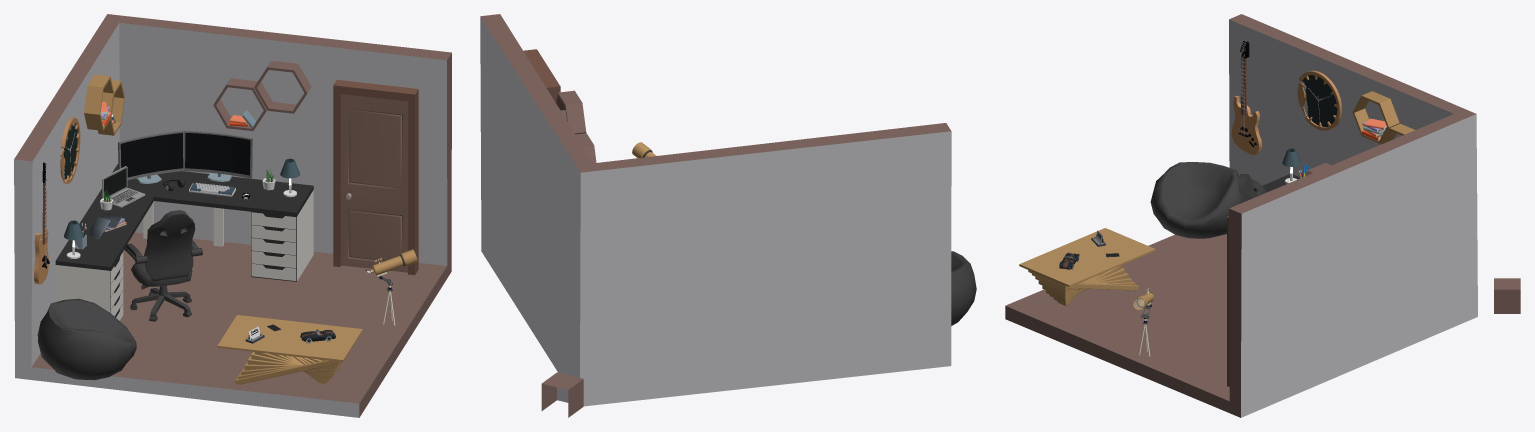
The picture shows the model from 3 angles, left to right: view 1: azimuth 30°, elevation 25°; view 2: azimuth 150°, elevation 25°; view 3: azimuth 270°, elevation 25°; orthographic projection. The views are drawn at different scales.
Visible parts, largest first — view 1: Body, Door, Table main, Screens, Table, Cushion Bag, Office Chair, Shelves, Books, Clock, Guitar, Telescope (+2 smaller); view 2: Body, Cushion Bag, Cube, Shelves, Door; view 3: Body, Cushion Bag, Table, Clock, Guitar, Shelves, Cube, Telescope, Office Chair.
Boxes of the visible parts, <box> form: Body: <box>14,14,451,417</box>; Door: <box>333,79,418,275</box>; Table main: <box>55,164,313,320</box>; Screens: <box>102,130,252,207</box>; Table: <box>217,315,362,384</box>; Cushion Bag: <box>37,298,136,380</box>; Office Chair: <box>124,210,202,321</box>; Shelves: <box>84,61,311,135</box>; Books: <box>87,102,256,238</box>; Clock: <box>60,117,80,183</box>; Guitar: <box>34,162,49,284</box>; Telescope: <box>365,249,417,325</box>; Body: <box>480,14,951,406</box>; Cushion Bag: <box>951,251,976,325</box>; Cube: <box>541,372,583,417</box>; Shelves: <box>555,90,596,163</box>; Door: <box>523,49,560,101</box>; Body: <box>1005,14,1477,417</box>; Cushion Bag: <box>1150,162,1245,238</box>; Table: <box>1019,228,1155,306</box>; Clock: <box>1297,70,1341,130</box>; Guitar: <box>1231,41,1262,154</box>; Shelves: <box>1305,91,1414,176</box>; Cube: <box>1494,278,1520,313</box>; Telescope: <box>1132,288,1153,356</box>; Office Chair: <box>1238,173,1265,200</box>.
Bounding box in the file's own units: 4.78 × 2.29 × 5.21.
70 materials, 5 textured.
